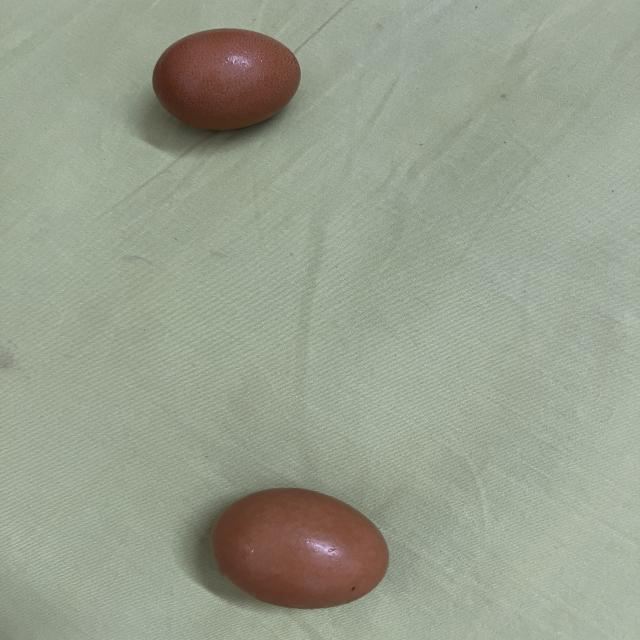Egg: (200, 481, 400, 610), (150, 24, 308, 132)
